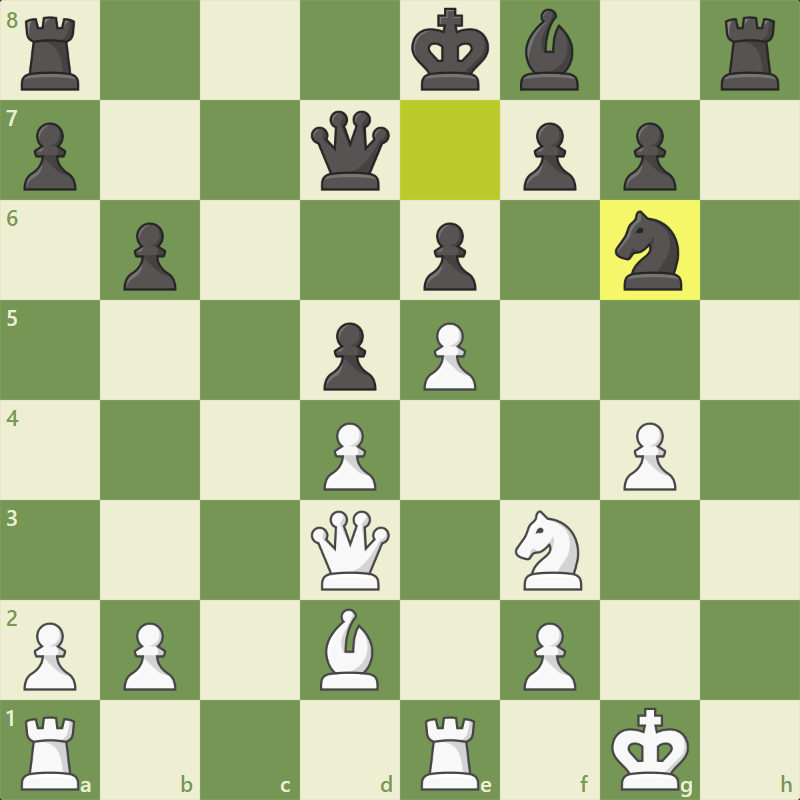B: (316, 607, 383, 693)
K: (609, 705, 692, 795)
N: (513, 508, 586, 594)
P: (618, 419, 681, 494), (21, 620, 81, 694), (119, 620, 179, 694), (519, 620, 579, 694), (421, 320, 480, 395), (319, 419, 378, 494)
Q: (307, 508, 392, 594)
R: (417, 713, 484, 794), (18, 714, 82, 794)
b: (516, 6, 583, 94)
k: (405, 5, 491, 96)
n: (613, 208, 686, 294)
p: (320, 320, 379, 394), (420, 220, 479, 294), (519, 120, 578, 194), (619, 121, 678, 195), (119, 219, 178, 293), (20, 119, 79, 193)
q: (307, 108, 392, 194)
r: (18, 14, 83, 94), (718, 14, 783, 94)
